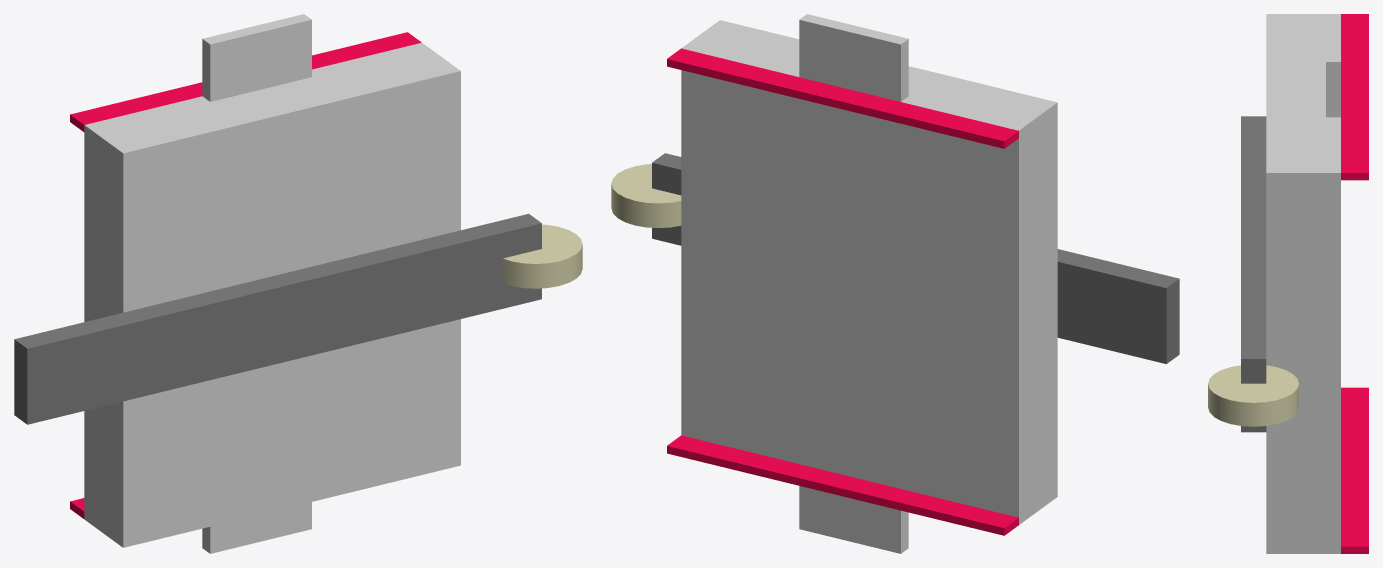
The model's file is conveyor_sealing_machine_part.dae.
3 renders of one model, left to right at view 1: azimuth 30°, elevation 25°; view 2: azimuth 150°, elevation 25°; view 3: azimuth 270°, elevation 25°, orthographic. The views are drawn at different scales.
Parts seen in each view (by area): view 1: instance_0_001, instance_0_003, instance_0_004, instance_0_002; view 2: instance_0_001, instance_0_003, instance_0_002, instance_0, instance_0_004; view 3: instance_0_001, instance_0_003, instance_0, instance_0_002, instance_0_004.
Boxes of the visible parts, <box> form: instance_0_001: <box>84,14,460,553</box>; instance_0_003: <box>14,213,541,424</box>; instance_0_004: <box>503,224,582,288</box>; instance_0_002: <box>70,32,421,131</box>; instance_0_001: <box>681,14,1057,553</box>; instance_0_003: <box>652,153,1179,363</box>; instance_0_002: <box>667,48,1018,148</box>; instance_0: <box>667,435,1018,535</box>; instance_0_004: <box>611,164,681,227</box>; instance_0_001: <box>1266,14,1340,553</box>; instance_0_003: <box>1241,116,1266,432</box>; instance_0: <box>1341,387,1368,553</box>; instance_0_002: <box>1341,14,1368,180</box>; instance_0_004: <box>1208,365,1298,426</box>.
Size of the model in its own units: 482 by 422 by 125.
